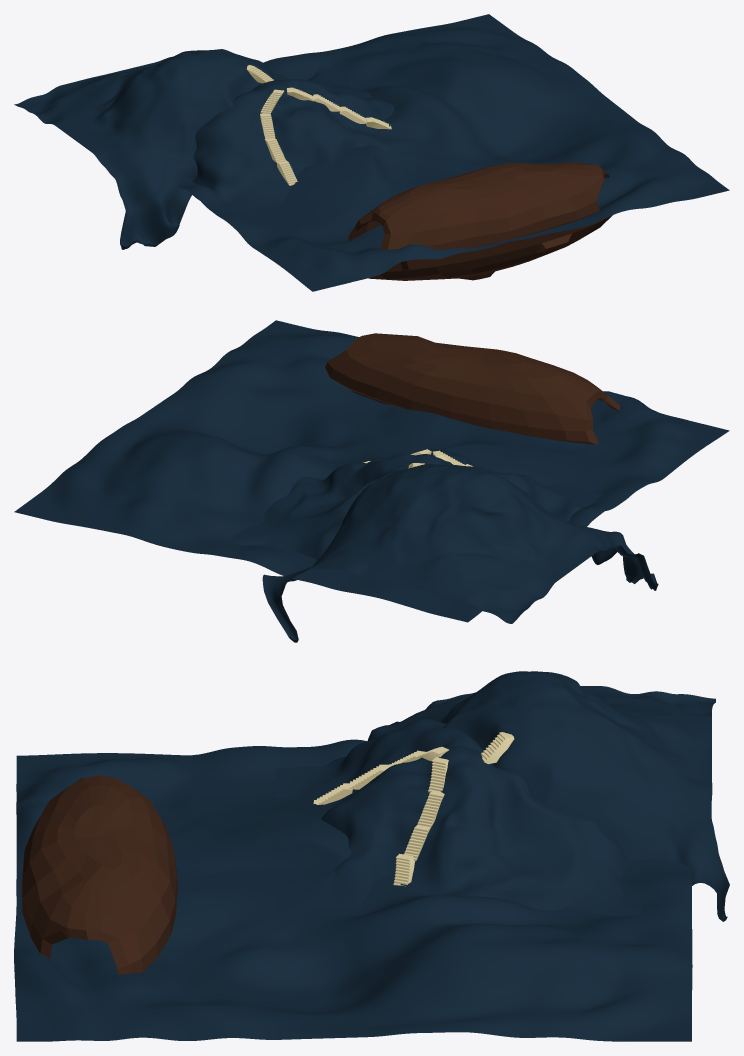
File: graveyard_terrain.fbx
3 views of the same model, one above another, from view 1: azimuth 30°, elevation 25°; view 2: azimuth 150°, elevation 25°; view 3: azimuth 270°, elevation 25° (orthographic). The views are drawn at different scales.
Parts seen in each view (by area): view 1: Landscape, Landscape_3, Sphere_1, Landscape_1; view 2: Landscape, Landscape_3, Sphere_1, Landscape_1; view 3: Landscape, Landscape_1, Landscape_3, Sphere_1.
Part boxes in pixels (x1,y1,x2,y2): Landscape: [178, 14, 729, 291]; Landscape_3: [14, 49, 273, 249]; Sphere_1: [348, 162, 612, 280]; Landscape_1: [187, 68, 432, 215]; Landscape: [14, 320, 729, 622]; Landscape_3: [262, 464, 658, 642]; Sphere_1: [325, 333, 619, 444]; Landscape_1: [230, 449, 604, 559]; Landscape: [14, 739, 692, 1041]; Landscape_1: [275, 718, 641, 915]; Landscape_3: [367, 671, 729, 921]; Sphere_1: [21, 775, 177, 974].
Bounding box in the file's own units: 7982 × 2155 × 7347.
